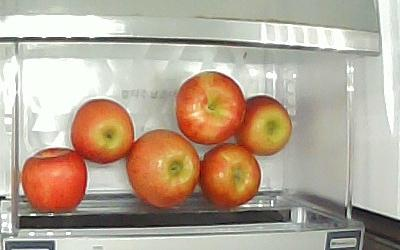apple: (128, 129, 200, 209), (175, 70, 246, 146), (22, 147, 88, 214), (71, 98, 134, 166), (199, 144, 262, 209), (235, 95, 291, 157)
